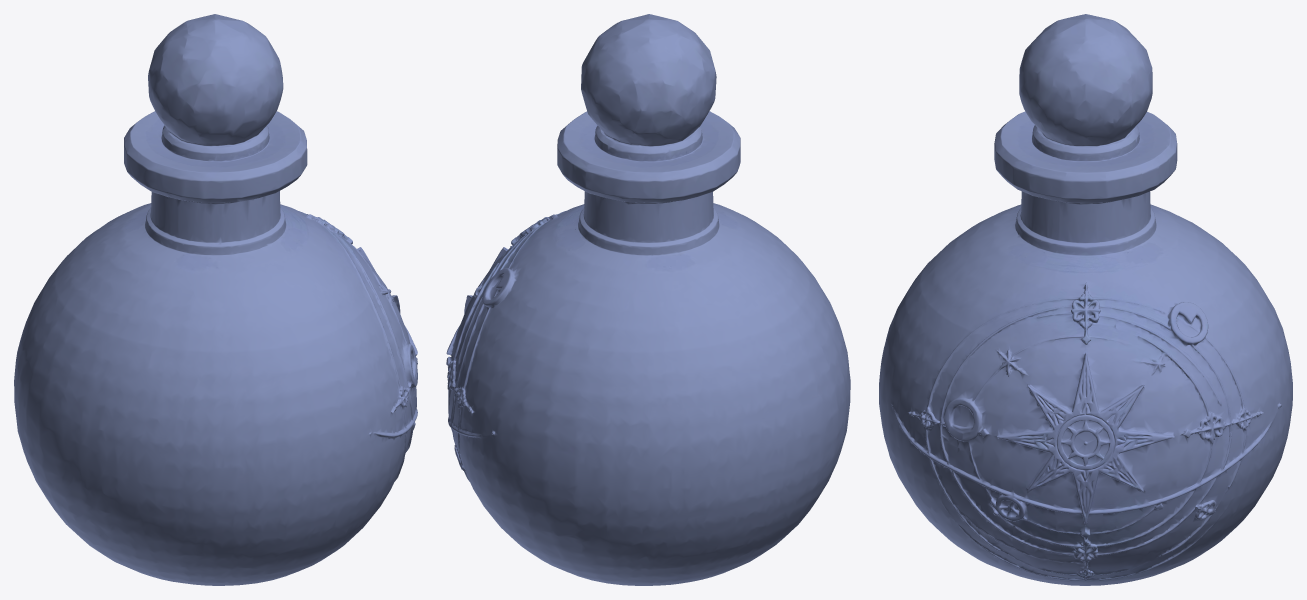
Rendered from bottle.glb.
The picture shows the model from 3 angles, left to right: view 1: azimuth 30°, elevation 25°; view 2: azimuth 150°, elevation 25°; view 3: azimuth 270°, elevation 25°; orthographic projection.
Visible parts, largest first — view 1: tripo_node_87cda1d8-45ae-403a-a8a7-53813cb7648f; view 2: tripo_node_87cda1d8-45ae-403a-a8a7-53813cb7648f; view 3: tripo_node_87cda1d8-45ae-403a-a8a7-53813cb7648f.
Part boxes in pixels (<box>): tripo_node_87cda1d8-45ae-403a-a8a7-53813cb7648f: <box>14,14,417,585</box>; tripo_node_87cda1d8-45ae-403a-a8a7-53813cb7648f: <box>446,14,850,585</box>; tripo_node_87cda1d8-45ae-403a-a8a7-53813cb7648f: <box>879,14,1292,585</box>.
Size of the model in its own units: 0.674 by 0.9799 by 0.6881.
Materials: 1 (1 with a texture image).
